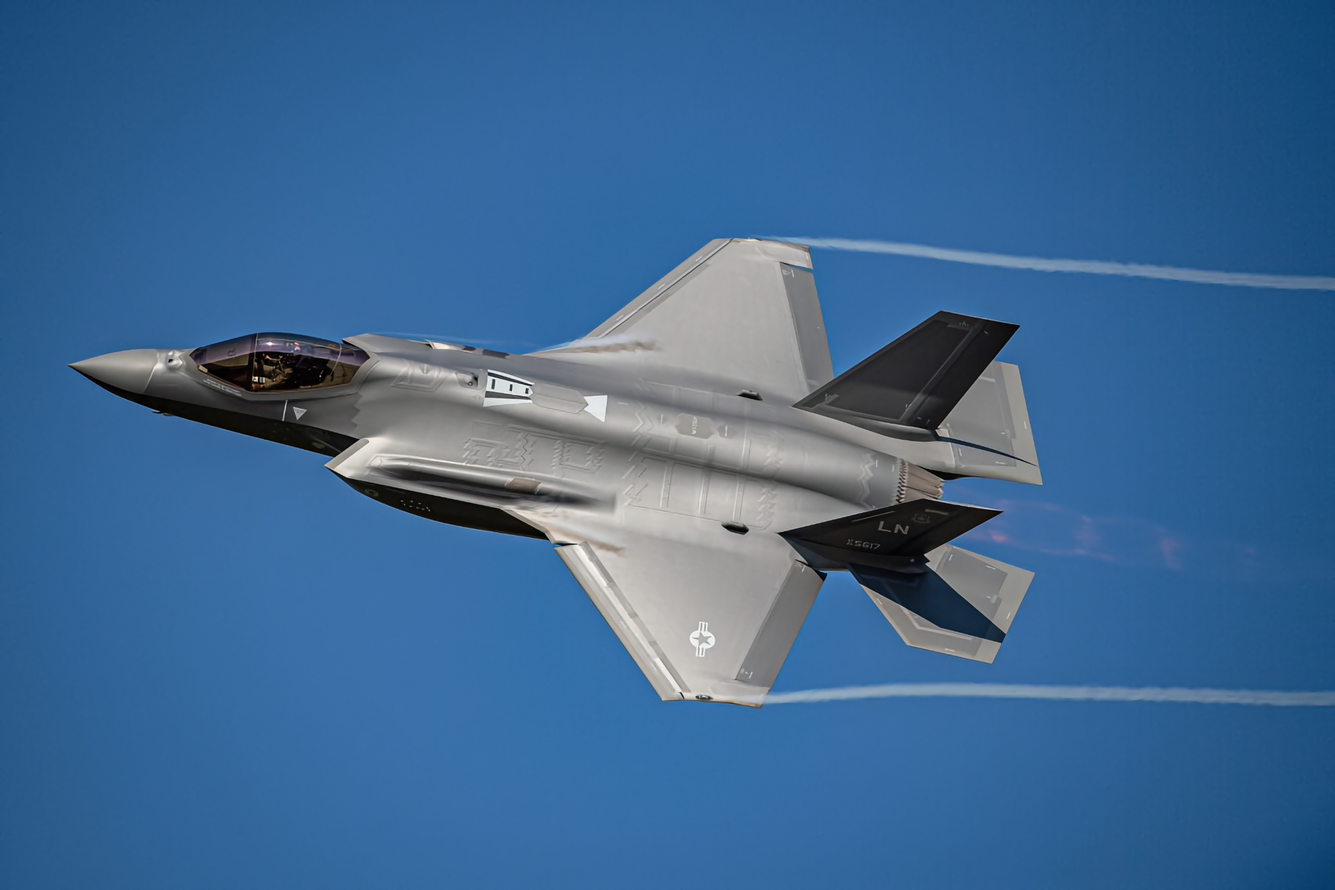F35: (56, 223, 1066, 719)
